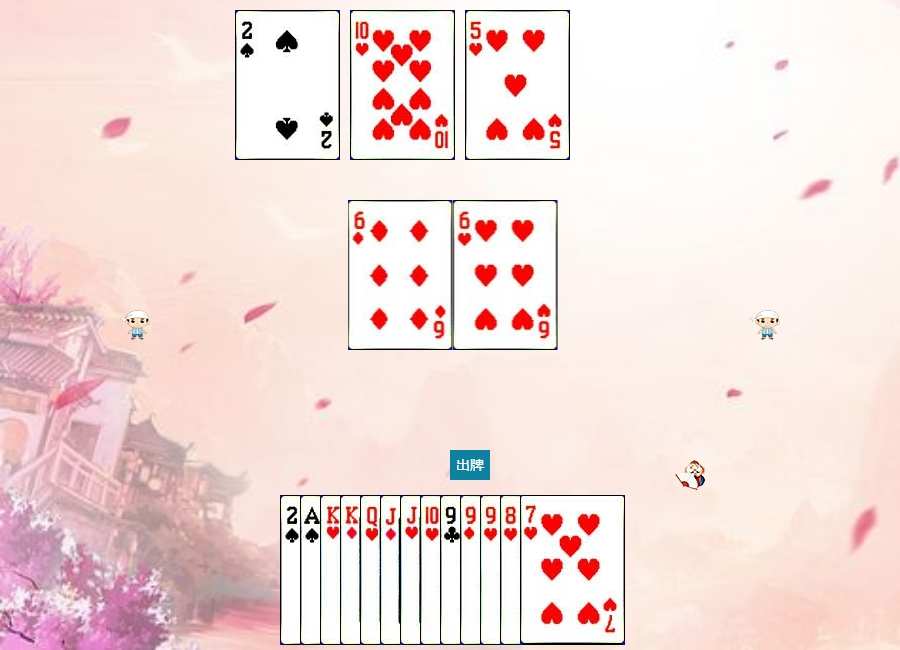10~3: (350, 10, 455, 160), (420, 495, 525, 645)
11~1: (380, 495, 485, 645)
11~3: (400, 495, 505, 645)
12~3: (360, 495, 465, 645)
13~1: (340, 495, 445, 645)
13~3: (320, 495, 425, 645)
14~4: (300, 495, 405, 645)
15~4: (235, 10, 340, 160), (280, 495, 385, 645)
5~3: (465, 10, 570, 160)
6~1: (348, 200, 453, 350)
6~3: (453, 200, 558, 350)
7~3: (520, 495, 625, 645)
8~3: (500, 495, 605, 645)
9~1: (460, 495, 565, 645)
9~2: (440, 495, 545, 645)
9~3: (480, 495, 585, 645)
